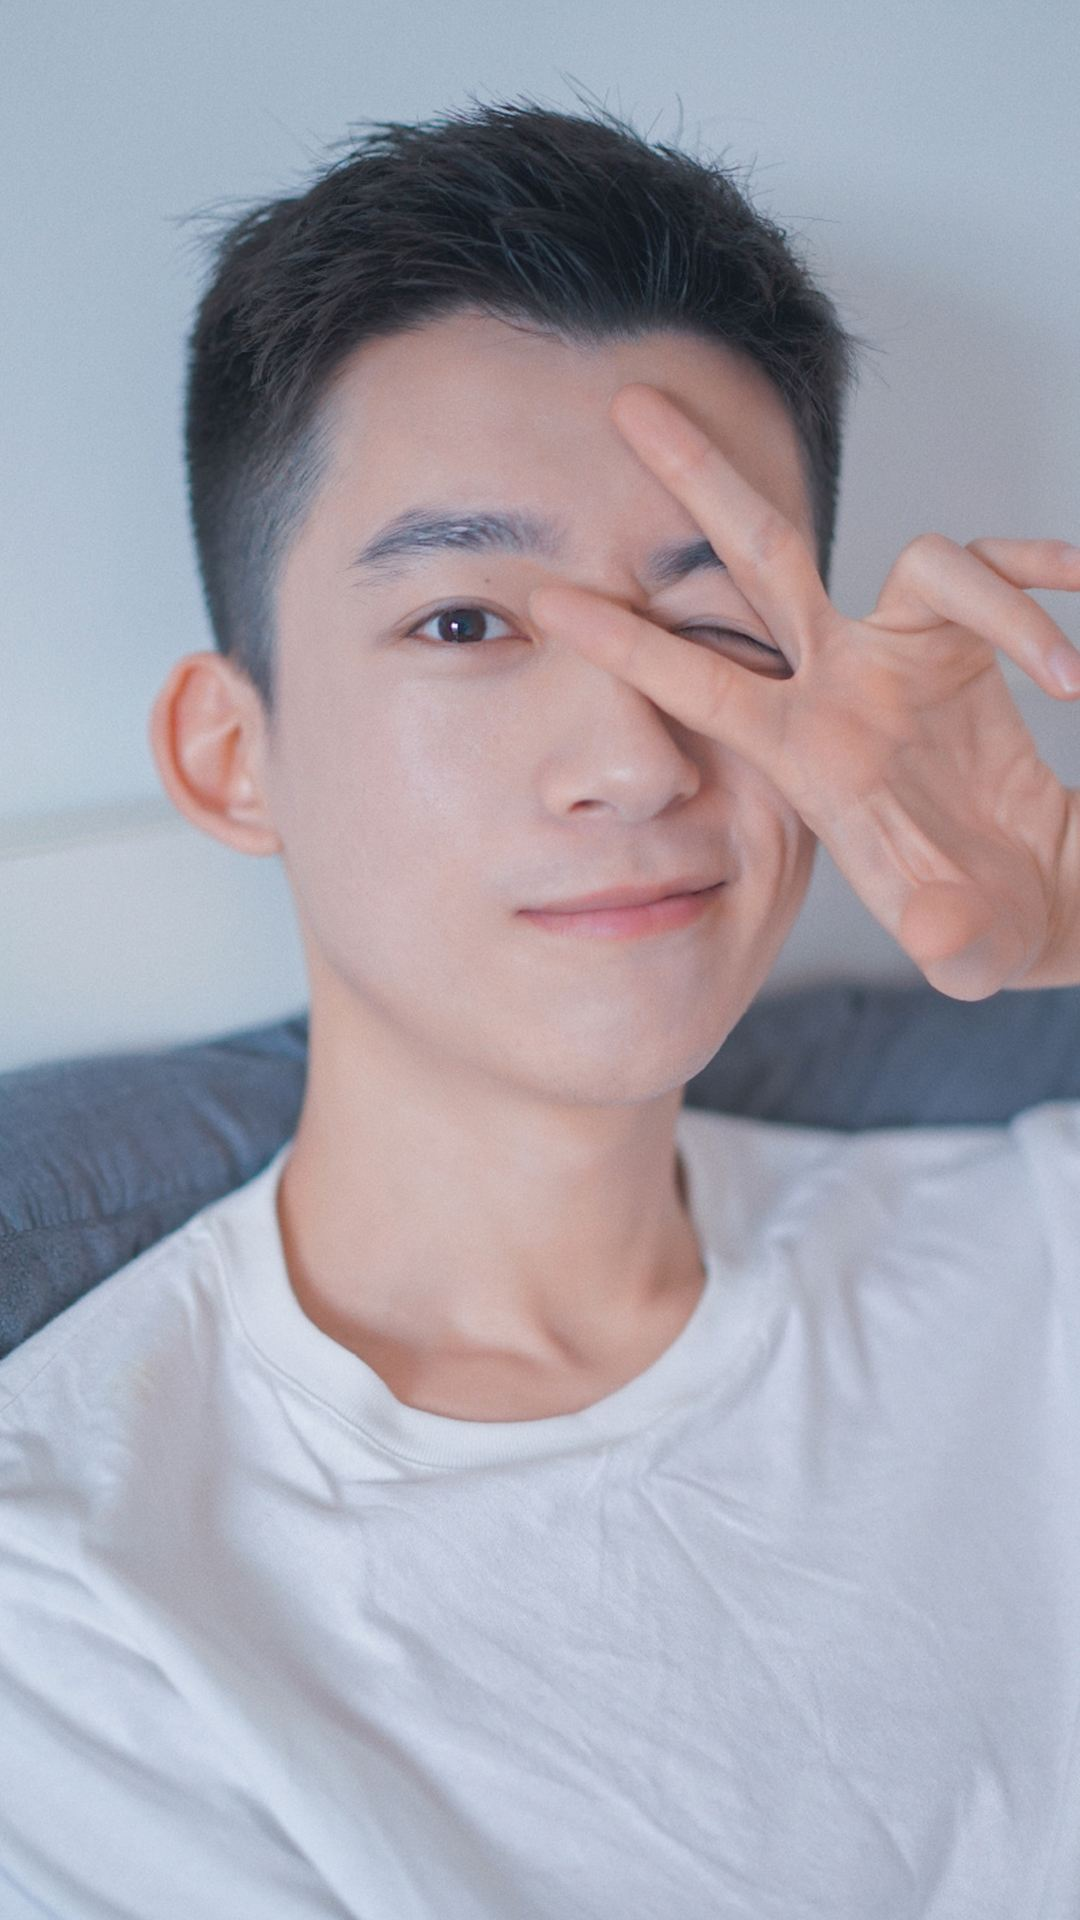person: (212, 172, 1038, 1920)
